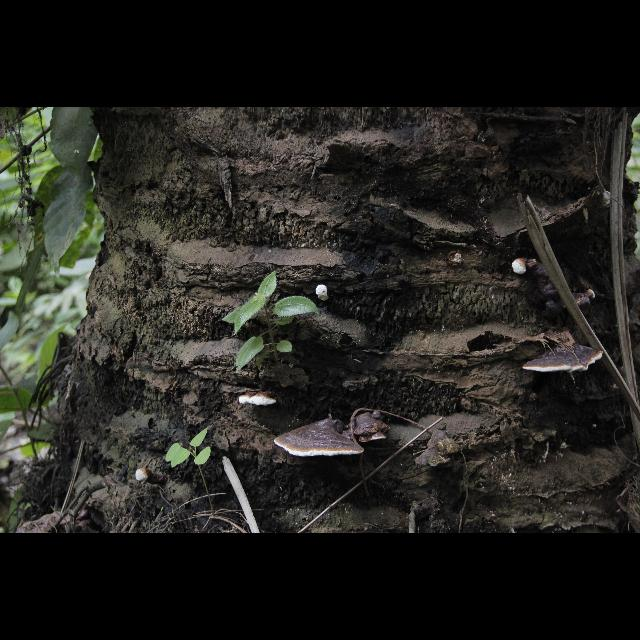ganoderma: (275, 419, 368, 460), (530, 258, 591, 319), (522, 344, 606, 375), (349, 411, 394, 445), (240, 391, 279, 408)
primordium: (513, 258, 530, 276), (136, 468, 152, 485), (317, 285, 332, 303), (602, 190, 612, 210), (587, 289, 597, 301)
